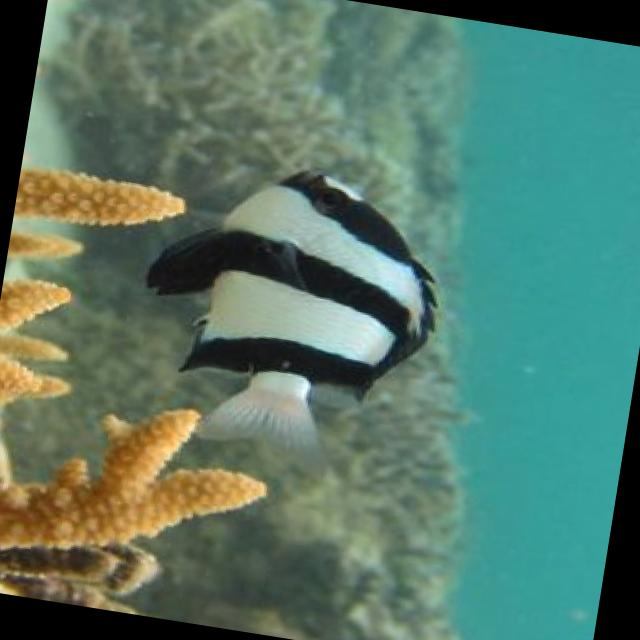ThreeStripedDamselfish: (141, 172, 440, 480)
